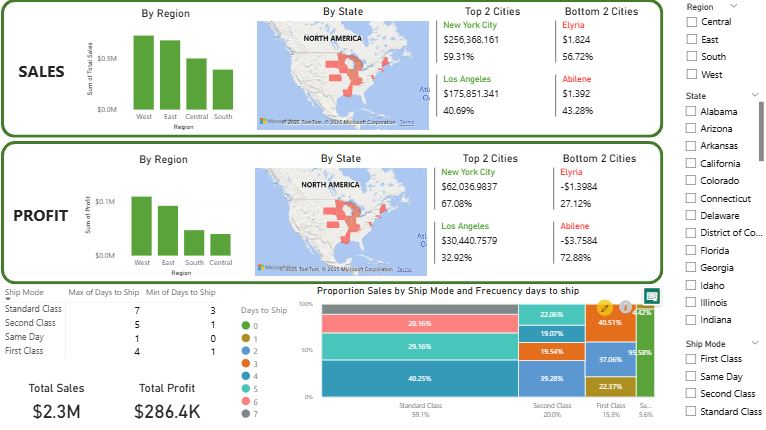

This screenshot's page, from the dashboard's own definition file:
{"tool":"powerbi","page":{"name":"Shipping and Region","canvas":[1280,720],"ordinal":1},"visuals":[{"type":"group","id":"g1","title":"Group 1","box":[3.8,0,1103.8,231.2],"z":0},{"type":"shape","box":[3.8,0,1103.8,231.2],"z":1000,"group":"g1"},{"type":"slicer","fields":{"Values":["Data_Superstore.State"]},"box":[1132.3,148.8,147.7,404.6],"z":1000},{"type":"slicer","fields":{"Values":["Data_Superstore.Region"]},"box":[1132.8,0,110.5,148.8],"z":2000},{"type":"slicer","fields":{"Values":["Data_Superstore.Ship Mode"]},"box":[1132.3,562.4,147.7,146.5],"z":3000},{"type":"pivotTable","fields":{"Values":["Max(Data_Superstore.Delay Days)","Min(Data_Superstore.Delay Days)1"],"Rows":["Data_Superstore.Ship Mode"]},"box":[0,475,387.5,135],"z":4000},{"type":"multiRowCard","title":"Top 2 Cities","fields":{"Values":["Data_Superstore.City","Sum(Data_Superstore.Sales)","Divide(Sum(Data_Superstore.Sales), ScopedEval(Sum(Data_Superstore.Sales), []))"]},"box":[724.1,10.8,198.8,212.5],"z":5000,"group":"g1"},{"type":"shape","box":[3.8,236.2,1103.8,238.8],"z":5000,"group":"g2"},{"type":"marimekkoChart4BDC01ABDC504D0EBFEF87854E8BED01","title":"Proportion Sales by Ship Mode and Frecuency days to ship","fields":{"category":["Data_Superstore.Ship Mode"],"legend":["Data_Superstore.Delay Days"],"width":["Sum(Data_Superstore.Sales)"],"height":["CountNonNull(Data_Superstore.Delay Days)"]},"box":[387.5,475,720,245],"z":5000},{"type":"filledMap","title":"By State","fields":{"Category":["Data_Superstore.State","Data_Superstore.City"]},"box":[422,254.5,296.4,212],"z":6000,"group":"g3"},{"type":"card","title":"Total Sales","fields":{"Values":["Sum(Data_Superstore.Sales)"]},"box":[3.8,636.2,185,75],"z":6000},{"type":"multiRowCard","title":"Top 2 Cities","fields":{"Values":["Data_Superstore.City","Sum(Data_Superstore.Profit)","Divide(Sum(Data_Superstore.Profit), ScopedEval(Sum(Data_Superstore.Profit), []))"]},"box":[720.3,254.5,198.3,212],"z":7000,"group":"g3"},{"type":"textbox","box":[10.4,335.9,118.8,46.2],"z":7000,"group":"g2"},{"type":"card","title":"Total Profit","fields":{"Values":["Sum(Data_Superstore.Profit)"]},"box":[188.8,636.2,183.8,75],"z":7000},{"type":"group","id":"g2","title":"Group 3","box":[3.8,236.2,1103.8,238.8],"z":8000},{"type":"columnChart","title":"By Region","fields":{"Category":["Data_Superstore.Region"],"Y":["Sum(Data_Superstore.Profit)"]},"box":[138.3,255.5,271.6,210],"z":8000,"group":"g3"},{"type":"columnChart","title":"By Region","fields":{"Category":["Data_Superstore.Region"],"Y":["Sum(Data_Superstore.Sales)"]},"box":[142.2,13.3,272.4,210],"z":9000,"group":"g1"},{"type":"group","id":"g3","title":"Group 2","box":[138.3,254.5,945,212],"z":10000,"group":"g2"},{"type":"multiRowCard","title":"Bottom 2 Cities","fields":{"Values":["Data_Superstore.City","Sum(Data_Superstore.Profit)","Divide(Sum(Data_Superstore.Profit), ScopedEval(Sum(Data_Superstore.Profit), []))"]},"box":[918,254.5,165.2,212],"z":10000,"group":"g3"},{"type":"multiRowCard","title":"Bottom 2 Cities","fields":{"Values":["Data_Superstore.City","Sum(Data_Superstore.Sales)","Divide(Sum(Data_Superstore.Sales), ScopedEval(Sum(Data_Superstore.Sales), []))"]},"box":[921.9,10.8,165.2,212.5],"z":12000,"group":"g1"},{"type":"filledMap","title":"By State","fields":{"Category":["Data_Superstore.State","Data_Superstore.City"]},"box":[425.9,10.8,297.3,212.7],"z":15000,"group":"g1"},{"type":"textbox","box":[9.1,96.2,125,46.2],"z":16000,"group":"g1"}]}

Visuals, with their boxes in screenshot pixels (x1, y1, x2, y2), scaled from the page's 1280x720 canvas onto the 766x430 screenshot:
"Group 1" group: {"left": 2, "top": 0, "right": 663, "bottom": 138}
shape: {"left": 2, "top": 0, "right": 663, "bottom": 138}
slicer - Data_Superstore.State: {"left": 678, "top": 89, "right": 765, "bottom": 331}
slicer - Data_Superstore.Region: {"left": 678, "top": 0, "right": 744, "bottom": 89}
slicer - Data_Superstore.Ship Mode: {"left": 678, "top": 336, "right": 765, "bottom": 423}
pivotTable - Max(Data_Superstore.Delay Days) x Min(Data_Superstore.Delay Days)1: {"left": 0, "top": 284, "right": 232, "bottom": 364}
"Top 2 Cities" multiRowCard: {"left": 433, "top": 6, "right": 552, "bottom": 133}
shape: {"left": 2, "top": 141, "right": 663, "bottom": 284}
"Proportion Sales by Ship Mode and Frecuency days to ship" marimekkoChart4BDC01ABDC504D0EBFEF87854E8BED01: {"left": 232, "top": 284, "right": 663, "bottom": 429}
"By State" filledMap: {"left": 253, "top": 152, "right": 430, "bottom": 279}
"Total Sales" card: {"left": 2, "top": 380, "right": 113, "bottom": 425}
"Top 2 Cities" multiRowCard: {"left": 431, "top": 152, "right": 550, "bottom": 279}
textbox: {"left": 6, "top": 201, "right": 77, "bottom": 228}
"Total Profit" card: {"left": 113, "top": 380, "right": 223, "bottom": 425}
"Group 3" group: {"left": 2, "top": 141, "right": 663, "bottom": 284}
"By Region" columnChart: {"left": 83, "top": 153, "right": 245, "bottom": 278}
"By Region" columnChart: {"left": 85, "top": 8, "right": 248, "bottom": 133}
"Group 2" group: {"left": 83, "top": 152, "right": 648, "bottom": 279}
"Bottom 2 Cities" multiRowCard: {"left": 549, "top": 152, "right": 648, "bottom": 279}
"Bottom 2 Cities" multiRowCard: {"left": 552, "top": 6, "right": 651, "bottom": 133}
"By State" filledMap: {"left": 255, "top": 6, "right": 433, "bottom": 133}
textbox: {"left": 5, "top": 57, "right": 80, "bottom": 85}
